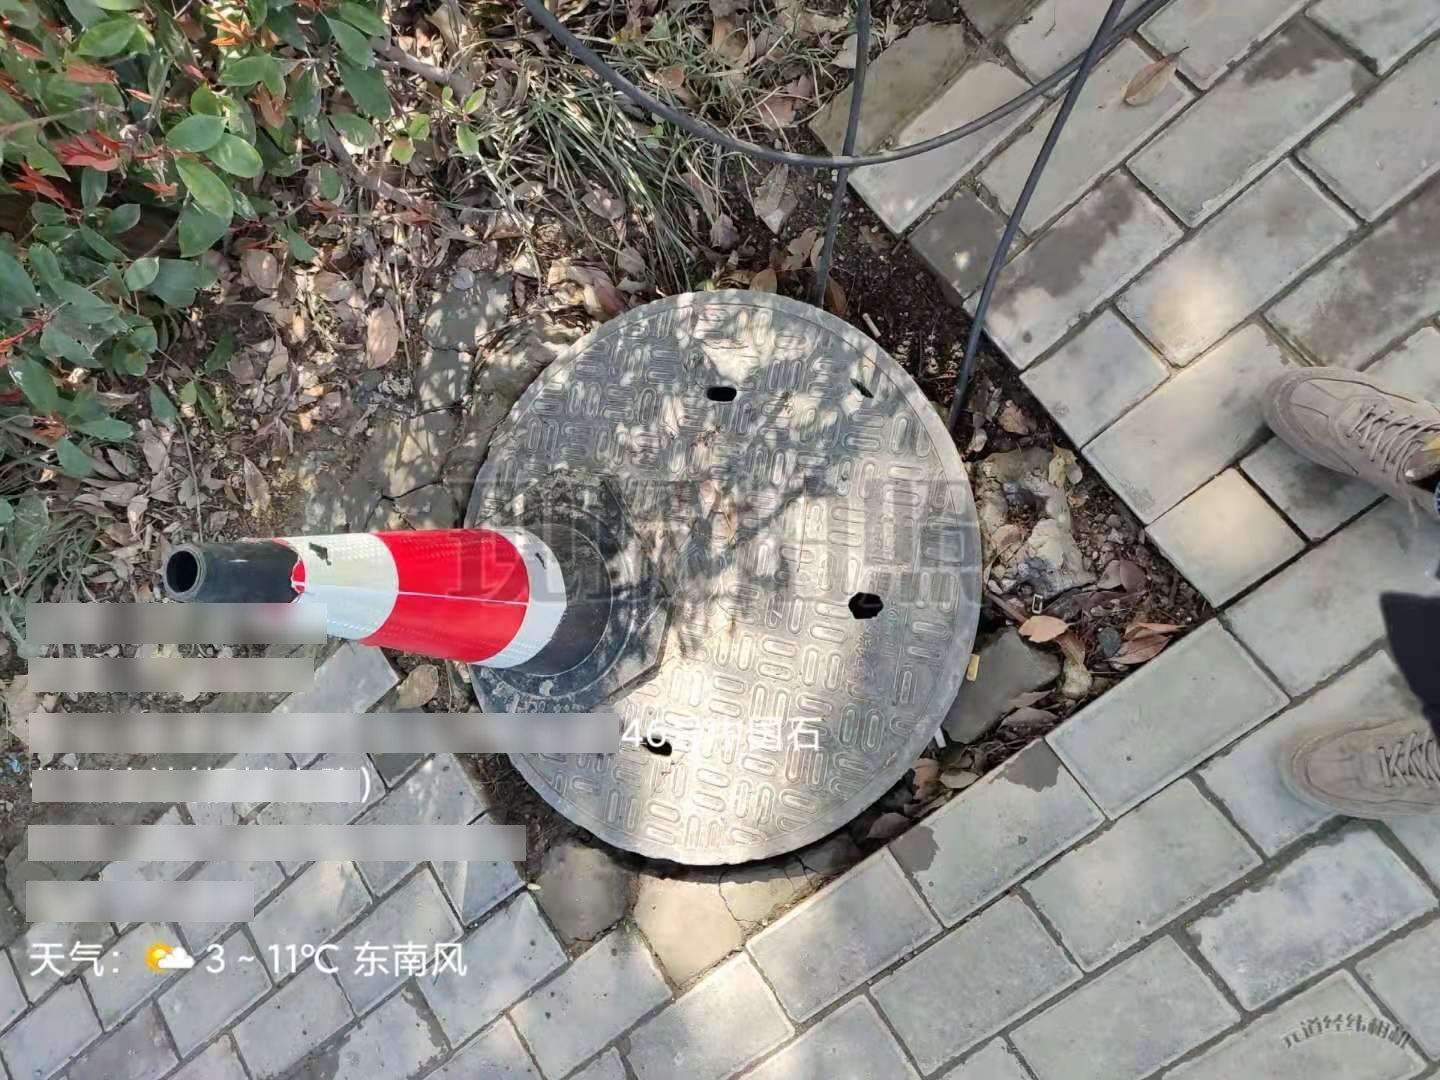broke: (444, 287, 986, 867)
